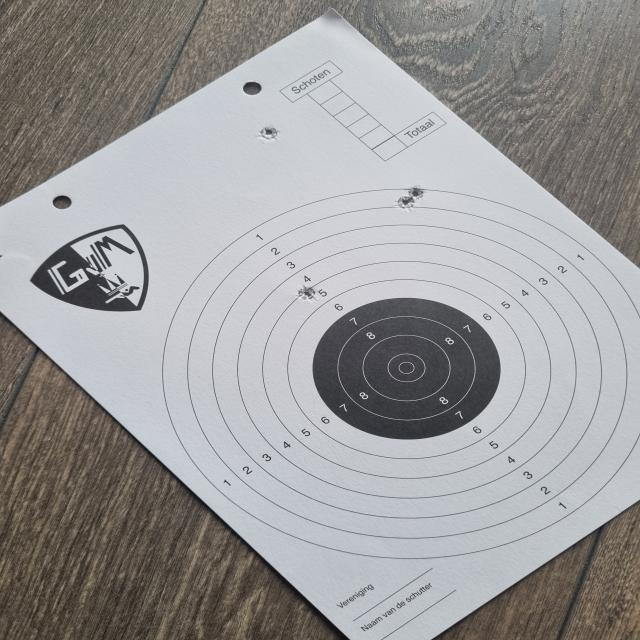1: (406, 185, 424, 200)
3: (396, 196, 414, 210)
6: (295, 285, 315, 301)
Black Contour: (312, 298, 501, 440)
Target: (162, 188, 640, 560)
hole: (252, 126, 281, 142)
